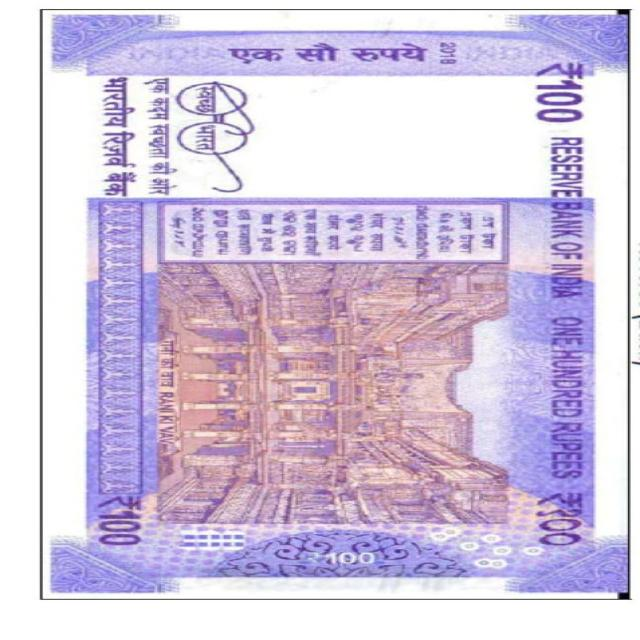100IndianRupees: (42, 11, 622, 597), (46, 199, 640, 596), (41, 13, 634, 199)
